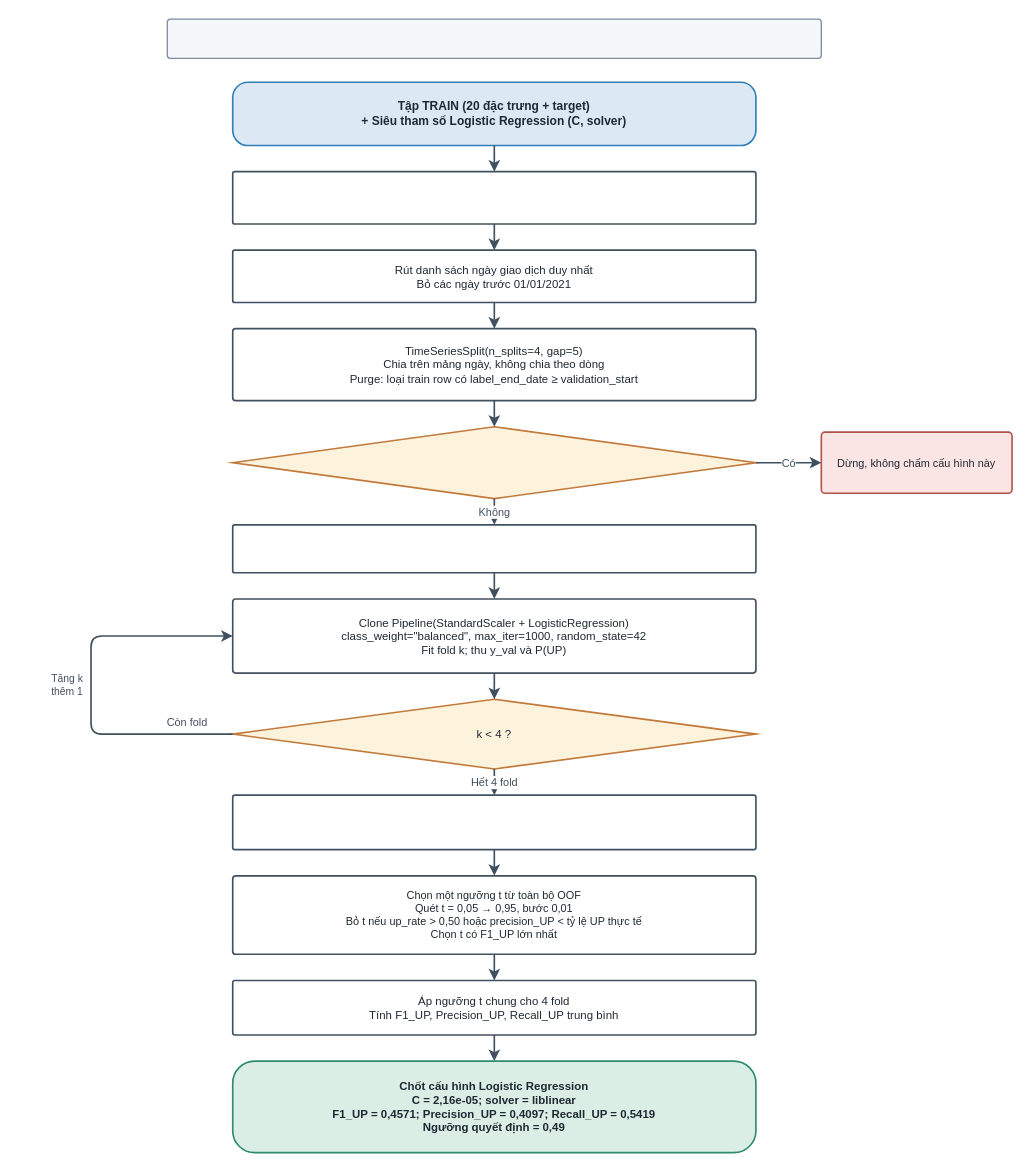
The diagram is 1031 pixels wide and 1173 high, and some of its shapes have lost their labels. Each missing label, with the centre of its shape:
Gom xác suất 4 fold thành một vector OOF Mỗi dòng TRAIN được dự báo đúng một lần: the point at 493,822
Khởi tạo vòng lặp: Đặt k = 1: the point at 493,548
Sắp xếp panel theo (trading_date, symbol): the point at 493,197
Train hoặc val fold rỗng?: the point at 493,462
Đề tài: Dự báo xu hướng giá cổ phiếu HOSE bằng Machine Learning: the point at 493,38
